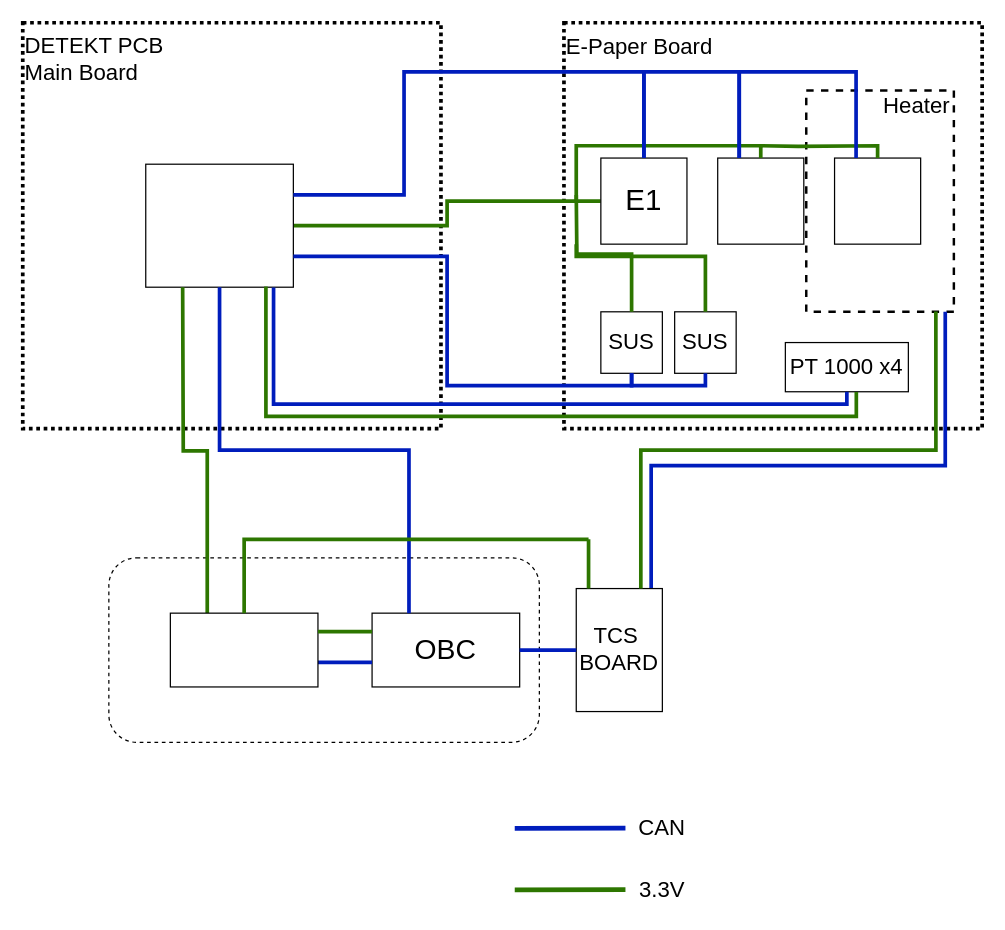
Image size: 1005x930. Some labels were removed from this diagram. The centre of each missing label's shape, as x and y in pixels:
E2: the point at 760,200
E3: the point at 877,200
PCDU: the point at 243,649
STM32 DETEKT PCb: the point at 219,225
